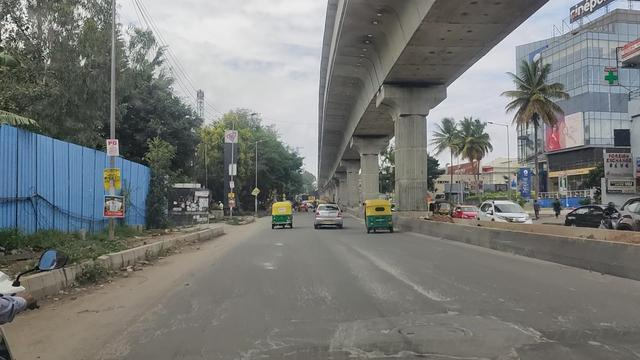LMV: (364, 201, 392, 237), (314, 203, 342, 230), (271, 202, 293, 229)
RoadDamages: (335, 301, 557, 360)
